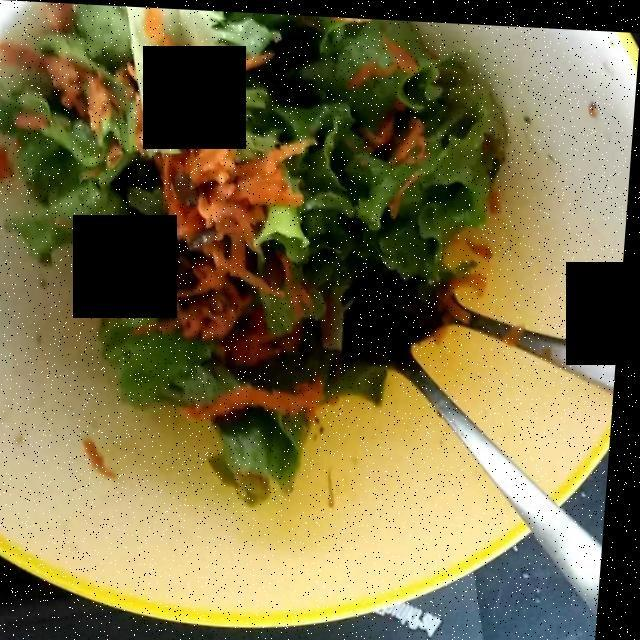carrot: (157, 138, 294, 353)
salad: (11, 17, 504, 492)
